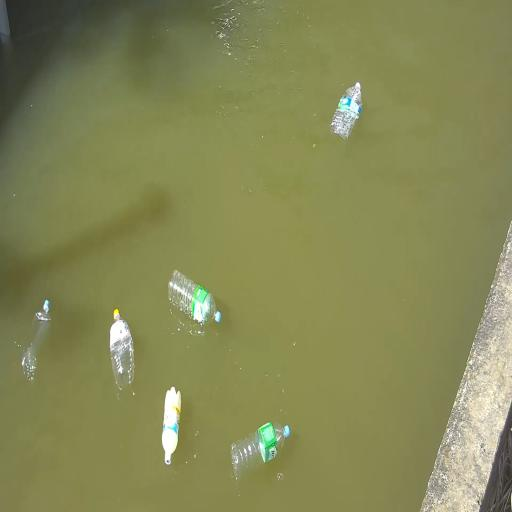plastic: (232, 423, 289, 479), (169, 270, 220, 324), (22, 300, 50, 381), (110, 309, 134, 389), (331, 83, 362, 139), (162, 387, 181, 465)
